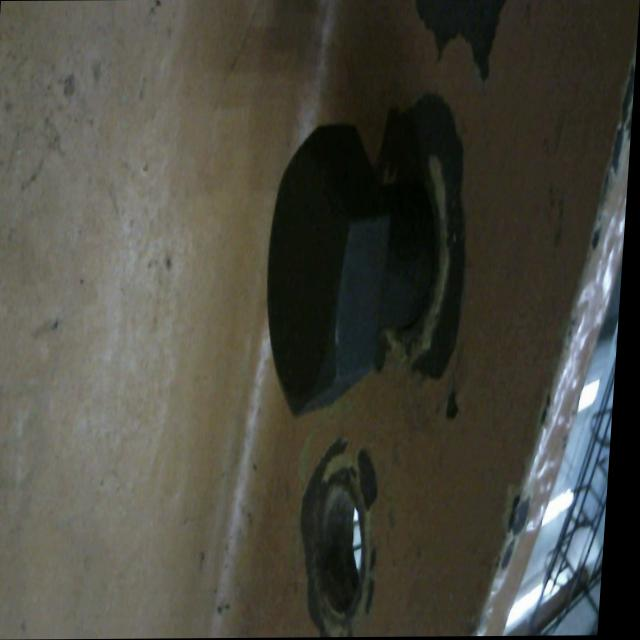Loose bolt: (261, 120, 451, 417)
Missing bolt: (317, 486, 381, 628)
